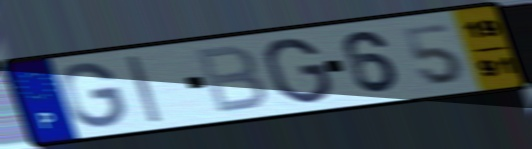5: (399, 21, 466, 87)
6: (341, 28, 403, 95)
B: (192, 43, 270, 116)
G: (262, 36, 336, 106), (57, 60, 129, 130)
I: (123, 53, 165, 125)
